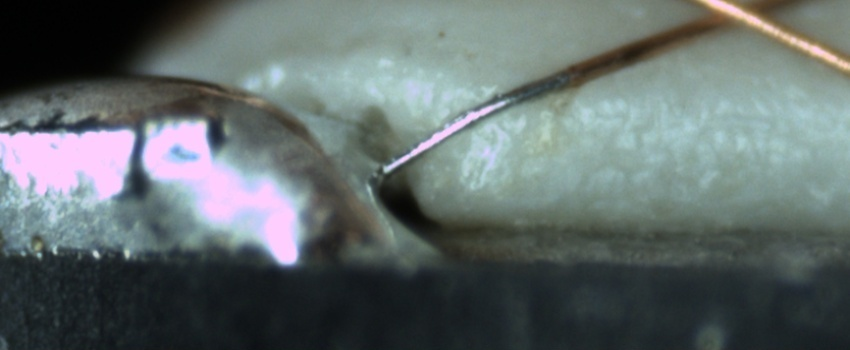CL: (682, 1, 800, 37)
DL: (551, 98, 849, 141)
TS: (381, 72, 572, 175)
TTCW: (380, 47, 632, 176)
